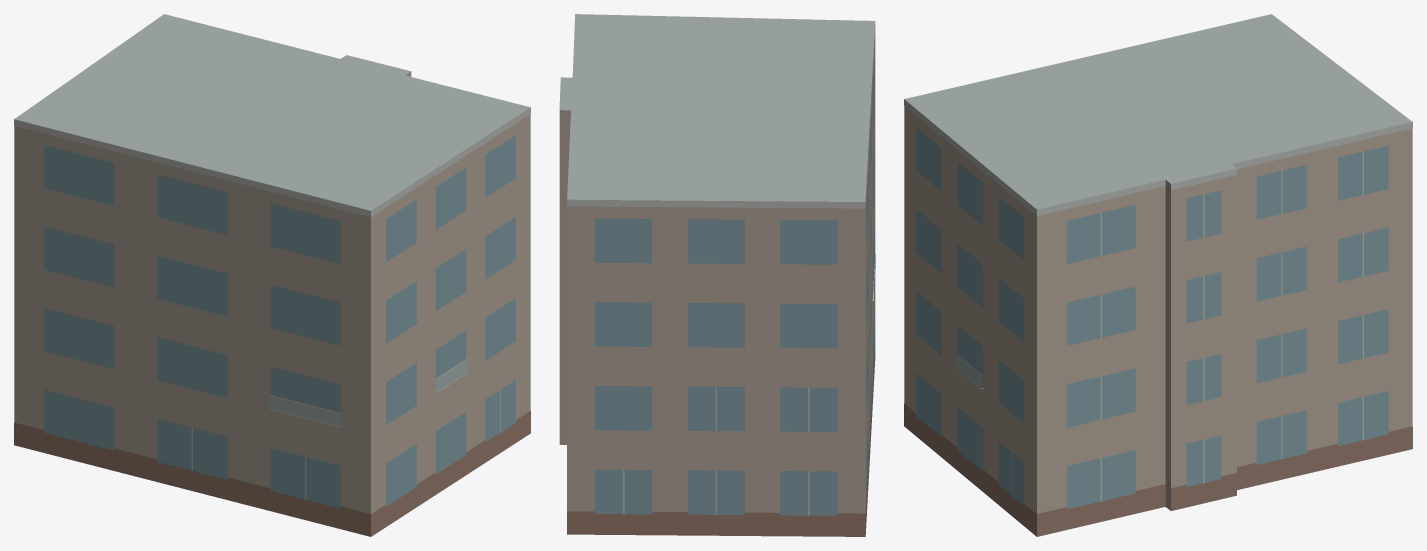
Rendered from survey-upis-32658029.glb.
3 renders of one model, left to right at view 1: azimuth 30°, elevation 25°; view 2: azimuth 150°, elevation 25°; view 3: azimuth 270°, elevation 25°, orthographic. The views are drawn at different scales.
Parts seen in each view (by area): view 1: survey-upis-32658029.tmp; view 2: survey-upis-32658029.tmp; view 3: survey-upis-32658029.tmp.
Boxes of the visible parts, x1,y1,x2,y2 form: survey-upis-32658029.tmp: (14,14,530,536); survey-upis-32658029.tmp: (559,14,875,536); survey-upis-32658029.tmp: (904,14,1412,536).
Size of the model in its own units: 15.98 by 12.45 by 17.55.
